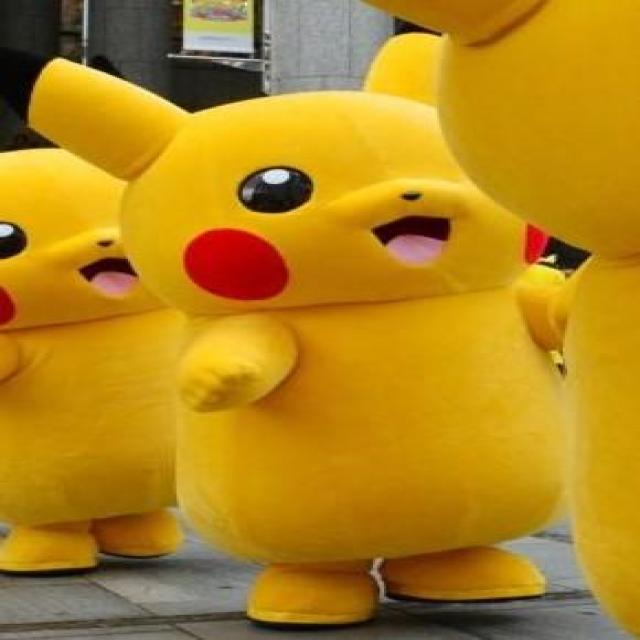pikachu: (0, 22, 580, 626)
